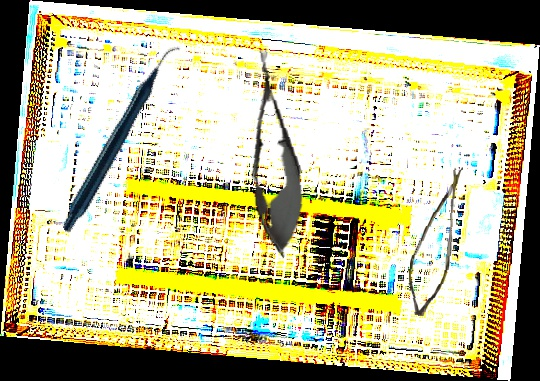Handpiece: (14, 43, 231, 235)
Micro Scissor: (236, 44, 311, 261), (406, 164, 463, 318)
